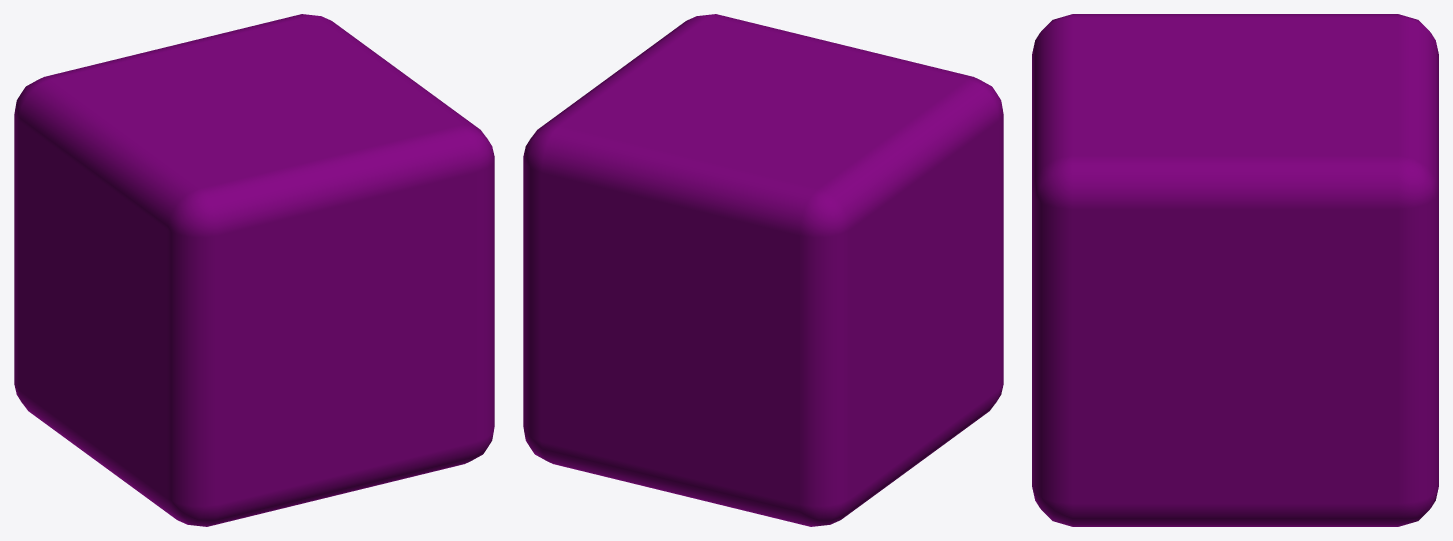
3 renders of one model, left to right at view 1: azimuth 30°, elevation 25°; view 2: azimuth 150°, elevation 25°; view 3: azimuth 270°, elevation 25°, orthographic. The views are drawn at different scales.
Visible parts, largest first — view 1: Cube (Change color here pls); view 2: Cube (Change color here pls); view 3: Cube (Change color here pls).
Boxes of the visible parts, bbox=[...] form: Cube (Change color here pls): bbox=[14, 14, 494, 526]; Cube (Change color here pls): bbox=[523, 14, 1003, 526]; Cube (Change color here pls): bbox=[1032, 14, 1438, 526].
Size of the model in its own units: 1 by 0.9954 by 0.9985.
